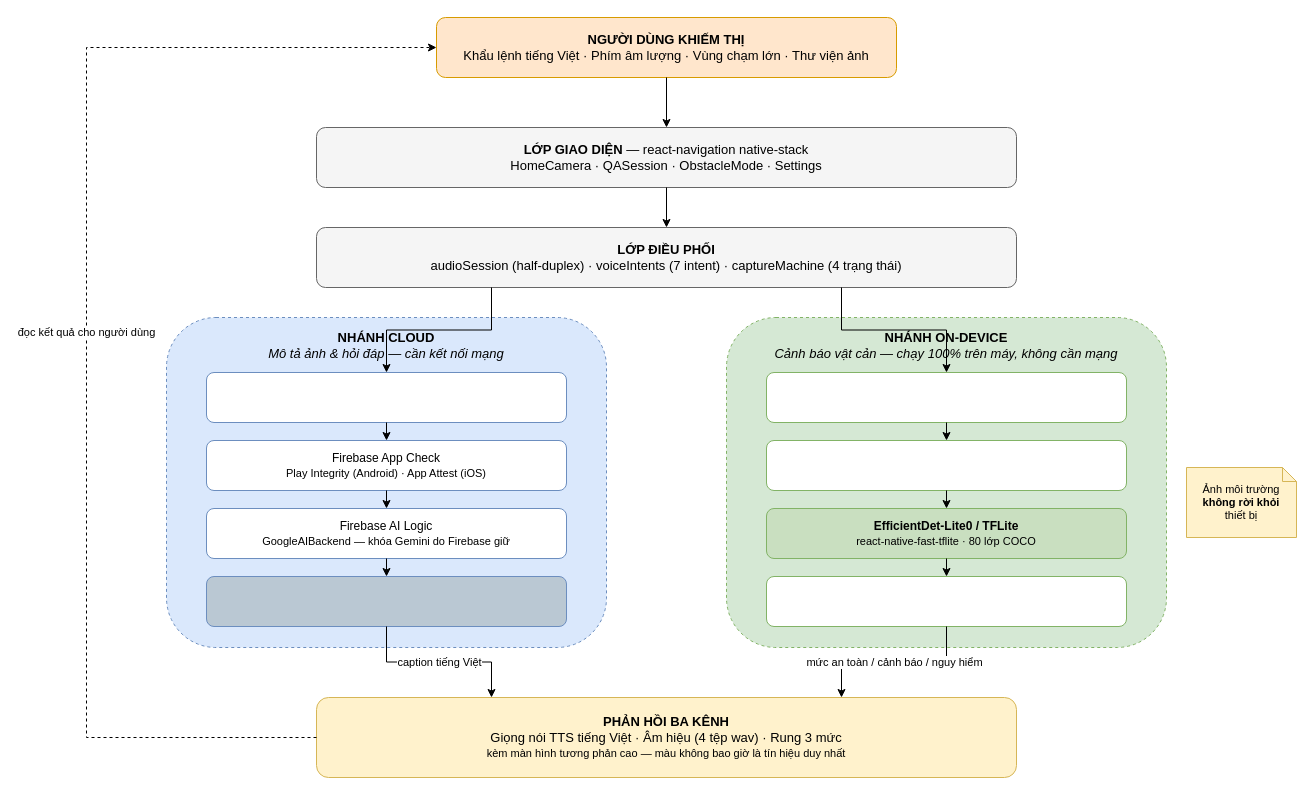
Some shapes in this 1314 by 795 pixel diagram are drawn without their labels. Here are the shapes that lost their labels. From the top down, the centre of each, then its label:
At point 386,397: "imagePipeline thu nhỏ 800px · JPEG 0.5 · base64".
At point 946,397: "react-native-vision-camera v5 capturePhoto 640×480 · chu kỳ 900 ms".
At point 946,465: "imagePreprocess Image (áp EXIF) → 320×320 → đọc pixel theo pixelFormat".
At point 386,601: "gemini-3.6-flash dự phòng: gemini-3.1-flash-lite khi hết hạn mức".
At point 946,601: "obstacleDetector lọc score ≥ 0,35 · dải trung tâm · areaRatio → 3 mức".
